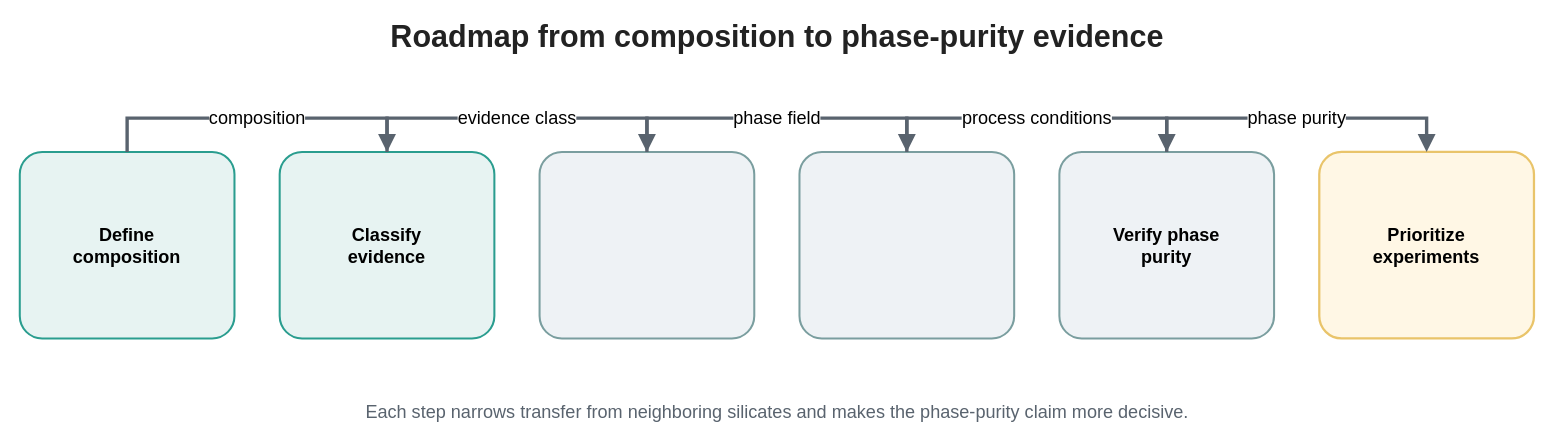
Some shapes in this 1555 by 444 pixel diagram are drawn without their labels. Each missing label, with the box of its shape:
Choose process window: (798, 150, 1015, 339)
Map phase relations: (538, 150, 755, 339)
